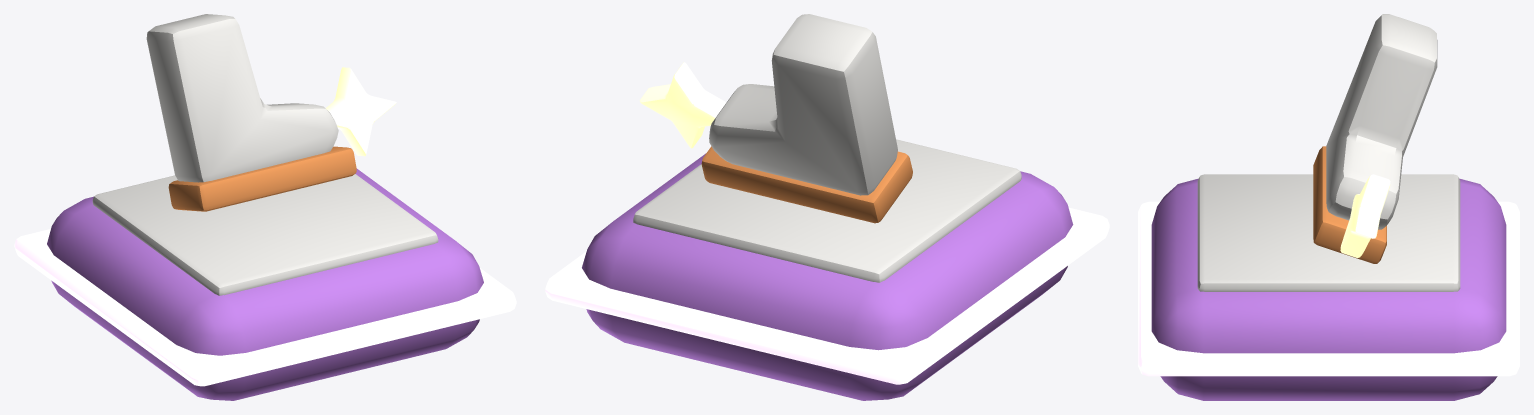
The model's file is pu_kick.glb.
3 views of the same model, side by side, from view 1: azimuth 30°, elevation 25°; view 2: azimuth 150°, elevation 25°; view 3: azimuth 270°, elevation 25° (orthographic). The views are drawn at different scales.
Parts seen in each view (by area): view 1: pu_kick; view 2: pu_kick; view 3: pu_kick.
Part boxes in pixels (box(x1,y1,x2,y2)): pu_kick: box(14, 14, 516, 400); pu_kick: box(545, 14, 1109, 400); pu_kick: box(1138, 14, 1519, 400).
Bounding box in the file's own units: 0.64 × 0.5514 × 0.64.
